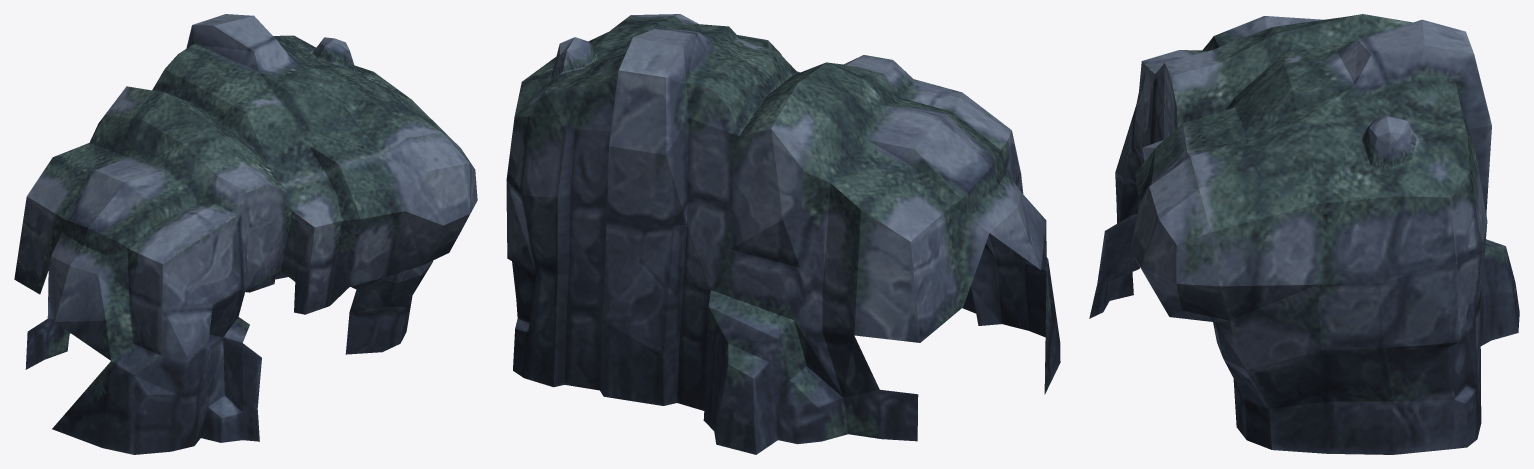
The model's file is cs_lobbynew02_wujian_zhiji_st03.FBX.
3 renders of one model, left to right at view 1: azimuth 30°, elevation 25°; view 2: azimuth 150°, elevation 25°; view 3: azimuth 270°, elevation 25°, orthographic. The views are drawn at different scales.
Parts seen in each view (by area): view 1: cs_lobbynew02_wujian_zhiji_st03; view 2: cs_lobbynew02_wujian_zhiji_st03; view 3: cs_lobbynew02_wujian_zhiji_st03.
Boxes of the visible parts, <box> form: cs_lobbynew02_wujian_zhiji_st03: <box>14,14,477,454</box>; cs_lobbynew02_wujian_zhiji_st03: <box>506,14,1060,454</box>; cs_lobbynew02_wujian_zhiji_st03: <box>1089,14,1519,454</box>.
Size of the model in its own units: 1299 by 905 by 999.
